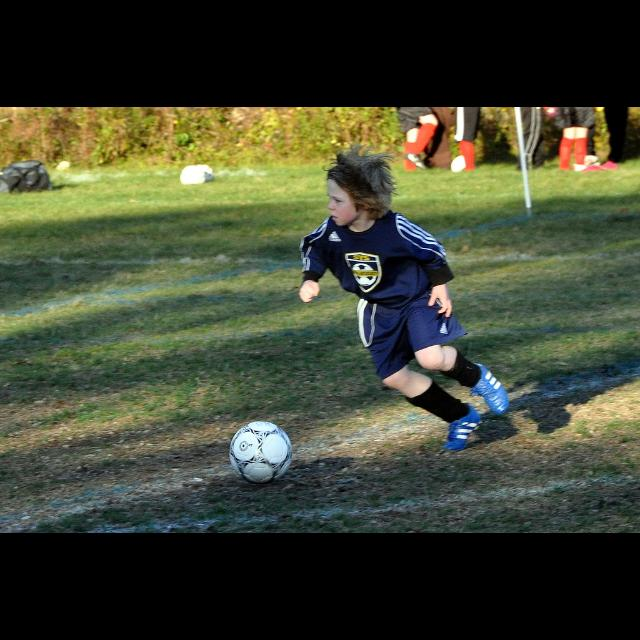Football: (226, 421, 292, 482), (178, 164, 206, 186)
